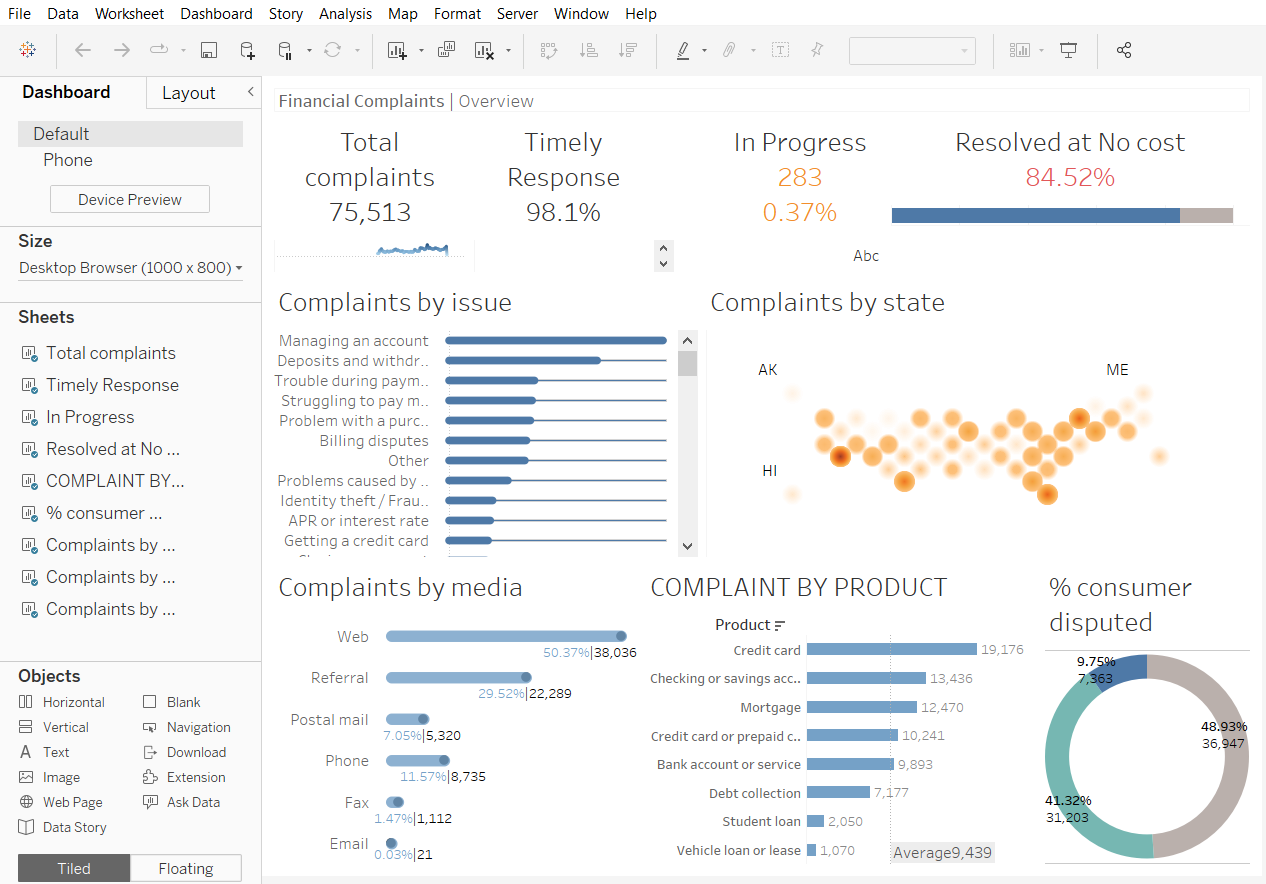

The page's visual inventory and layout, read from the dashboard file:
{"tool":"tableau","page":{"name":"Financial complaints overview","canvas":[1000,800],"ordinal":0},"visuals":[{"type":"text","box":[8,8,984,32]},{"type":"worksheet","title":"Total complaints","mark":"Automatic","rows":["Financial Consumer Complaints.csv_333C5F08C5284CDEB9A2D74B95"],"cols":["Date Sumbited"],"box":[8,40,200,160]},{"type":"worksheet","title":"Timely Response","mark":"Bar","cols":["Calculation_59954230006898688"],"box":[208,40,243,160]},{"type":"worksheet","title":"In Progress","mark":"Automatic","box":[451,40,174,160]},{"type":"worksheet","title":"Resolved at No cost","mark":"Automatic","box":[625,40,367,160]},{"type":"worksheet","title":"Complaints by issue","mark":"Line","rows":["Issue"],"cols":["Calculation_59954230103990283"],"box":[8,200,432,285]},{"type":"worksheet","title":"Complaints by state","mark":"Heatmap","rows":["Row"],"cols":["Column"],"box":[440,200,552,285]},{"type":"worksheet","title":"Complaints by media","mark":"Automatic","rows":["Submitted via"],"cols":["Financial Consumer Complaints.csv_333C5F08C5284CDEB9A2D74B95"],"box":[8,485,372,307]},{"type":"worksheet","title":"COMPLAINT BY PRODUCT","mark":"Automatic","rows":["Product"],"cols":["Financial Consumer Complaints.csv_333C5F08C5284CDEB9A2D74B95"],"box":[380,485,399,307]},{"type":"worksheet","title":"% consumer disputed","mark":"Pie","rows":["Calculation_385620777026260994","Calculation_385620777026260994"],"box":[779,485,213,307]}]}

Visuals, with their boxes on the page's 1000x800 design canvas (x1, y1, x2, y2). These are canvas units, not pixel positions in the 1266x884 screenshot, which may show the page scaled, cropped or inside an application window:
text: [8, 8, 992, 40]
"Total complaints" worksheet: [8, 40, 208, 200]
"Timely Response" worksheet (Bar marks): [208, 40, 451, 200]
"In Progress" worksheet: [451, 40, 625, 200]
"Resolved at No cost" worksheet: [625, 40, 992, 200]
"Complaints by issue" worksheet (Line marks): [8, 200, 440, 485]
"Complaints by state" worksheet (Heatmap marks): [440, 200, 992, 485]
"Complaints by media" worksheet: [8, 485, 380, 792]
"COMPLAINT BY PRODUCT" worksheet: [380, 485, 779, 792]
"% consumer disputed" worksheet (Pie marks): [779, 485, 992, 792]
